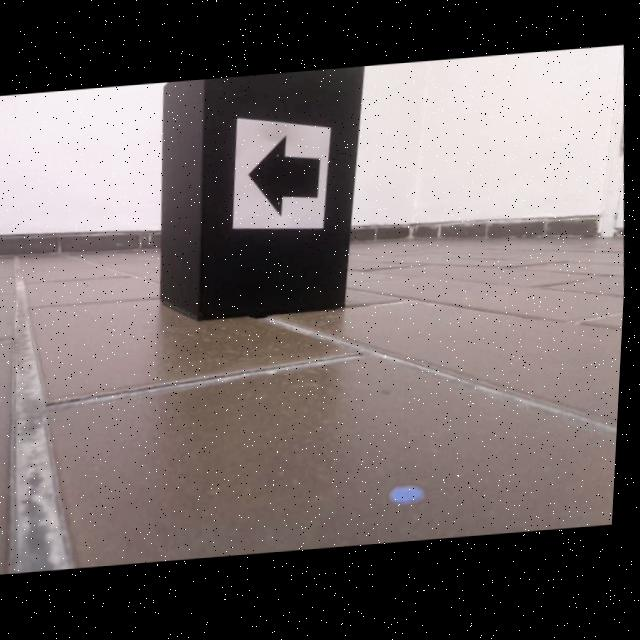LEFT: (249, 135, 322, 219)
